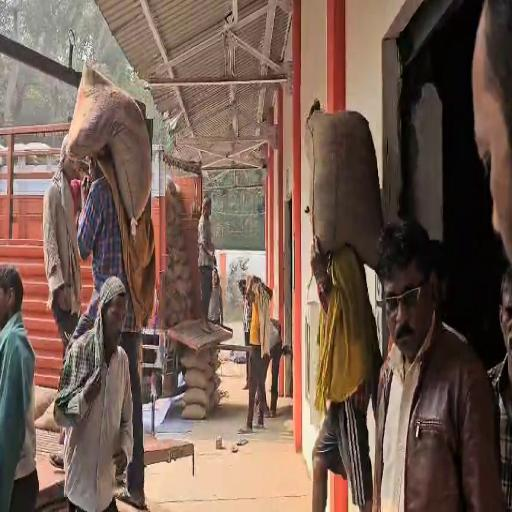bag: (67, 60, 155, 230), (302, 96, 385, 271)
